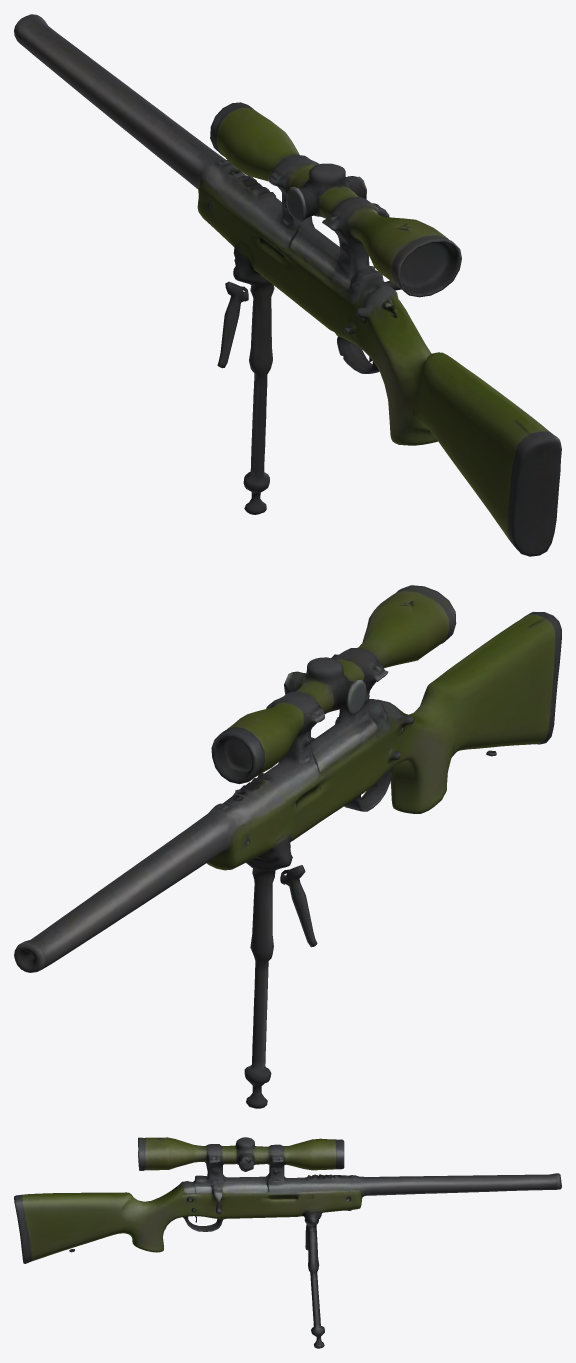
File: w_sniper.glb
3 views of the same model, one above another, from view 1: azimuth 30°, elevation 25°; view 2: azimuth 150°, elevation 25°; view 3: azimuth 270°, elevation 25° (orthographic). The views are drawn at different scales.
Visible parts, largest first — view 1: model; view 2: model; view 3: model.
Part boxes in pixels (x1,y1,x2,y2): model: (14,14,561,556); model: (14,585,561,1108); model: (14,1137,561,1348).
Bounding box in the file's own units: 0.2311 × 0.7967 × 1.9.
1 material, 1 textured.
